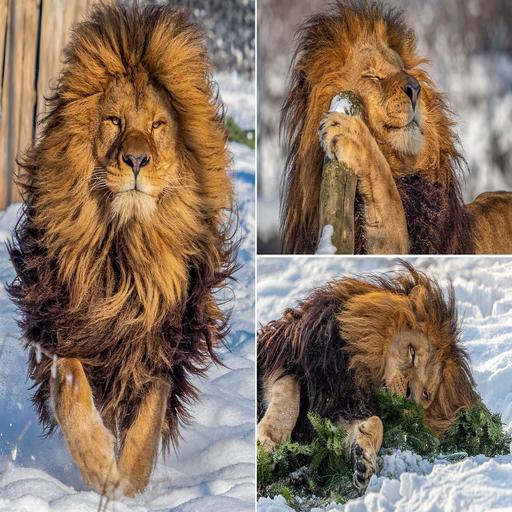Lion: (17, 0, 243, 512), (272, 2, 512, 255), (254, 254, 510, 490)
